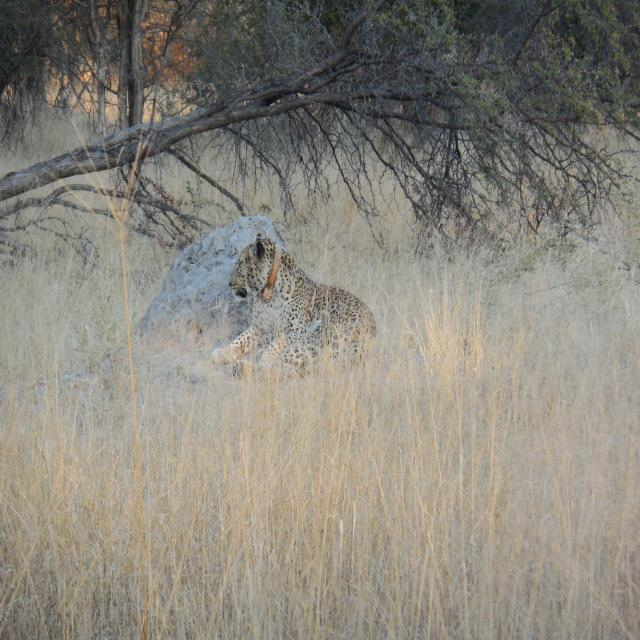Leopard: (215, 227, 384, 382)
